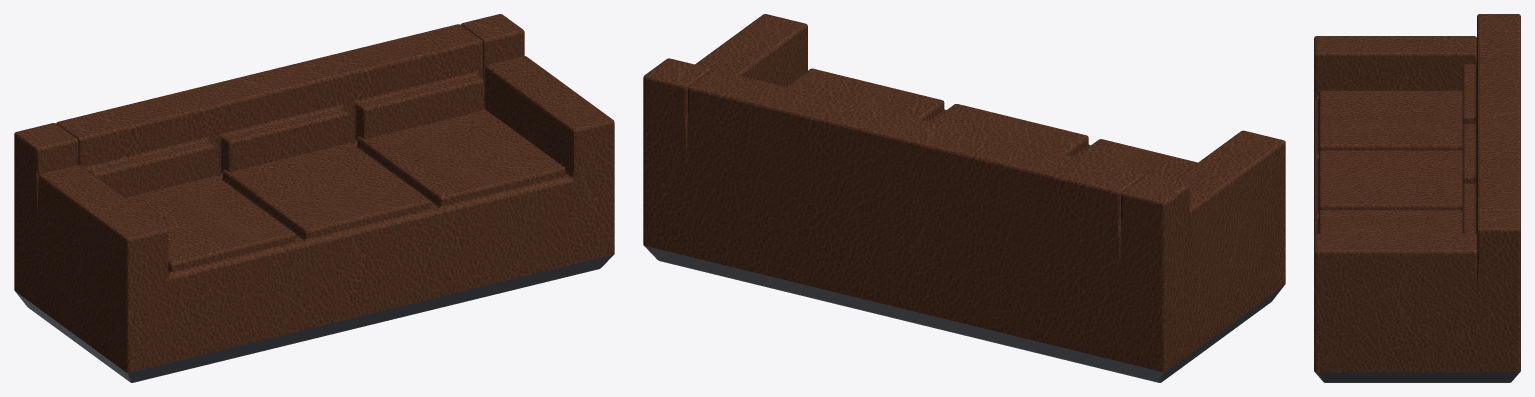
Rendered from sofa_3.glb.
3 renders of one model, left to right at view 1: azimuth 30°, elevation 25°; view 2: azimuth 150°, elevation 25°; view 3: azimuth 270°, elevation 25°, orthographic. The views are drawn at different scales.
Visible parts, largest first — view 1: Sofa_3; view 2: Sofa_3; view 3: Sofa_3.
Part boxes in pixels (x1,y1,x2,y2): Sofa_3: (14,14,614,382); Sofa_3: (643,14,1285,382); Sofa_3: (1314,14,1520,382).
Size of the model in its own units: 2.52 by 0.864 by 1.02.
2 materials, 1 textured.
